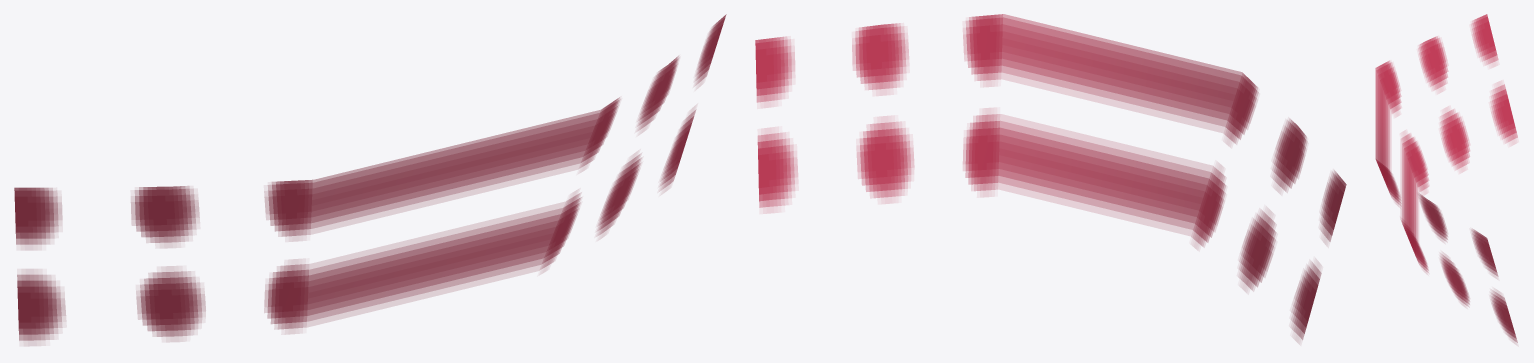
3 renders of one model, left to right at view 1: azimuth 30°, elevation 25°; view 2: azimuth 150°, elevation 25°; view 3: azimuth 270°, elevation 25°, orthographic. The views are drawn at different scales.
Visible parts, largest first — view 1: ef_806; view 2: ef_806; view 3: ef_806.
Part boxes in pixels (box(x1,y1,x2,y2)): ef_806: box(14, 14, 726, 345); ef_806: box(755, 14, 1346, 342); ef_806: box(1375, 14, 1517, 343).
Bounding box in the file's own units: 0.8101 × 0.2249 × 0.2209.
1 material, 1 textured.
